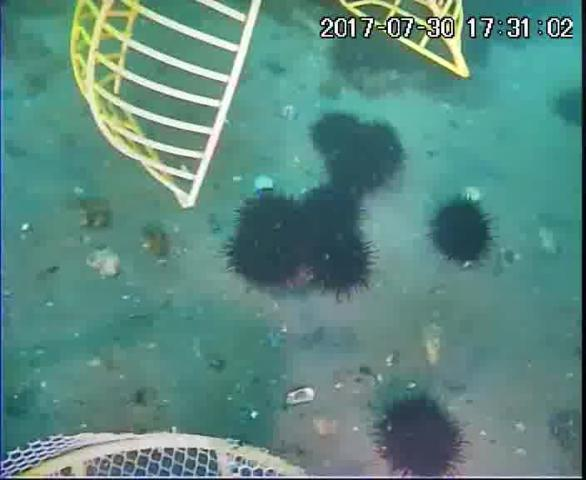echinus: (375, 395, 471, 480), (228, 215, 308, 288), (330, 122, 406, 196), (305, 230, 377, 301), (429, 197, 498, 268), (239, 185, 307, 250), (298, 186, 360, 242), (310, 107, 365, 161), (544, 408, 586, 456), (549, 89, 586, 128)
